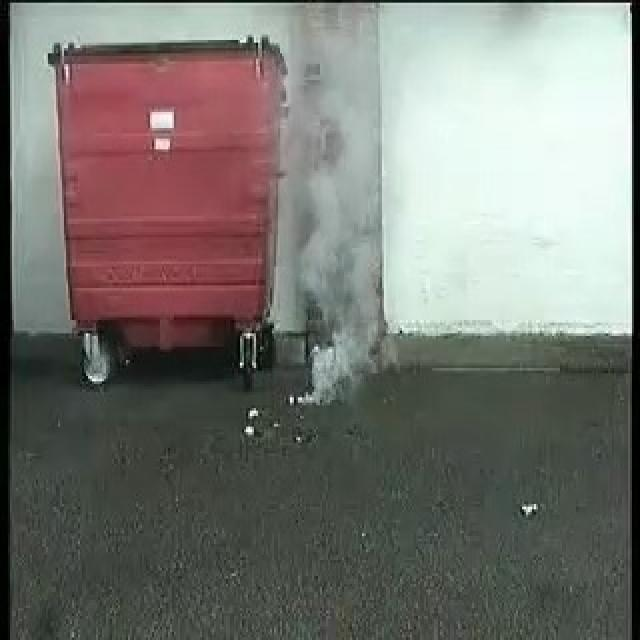Smoke: (273, 110, 398, 403)
